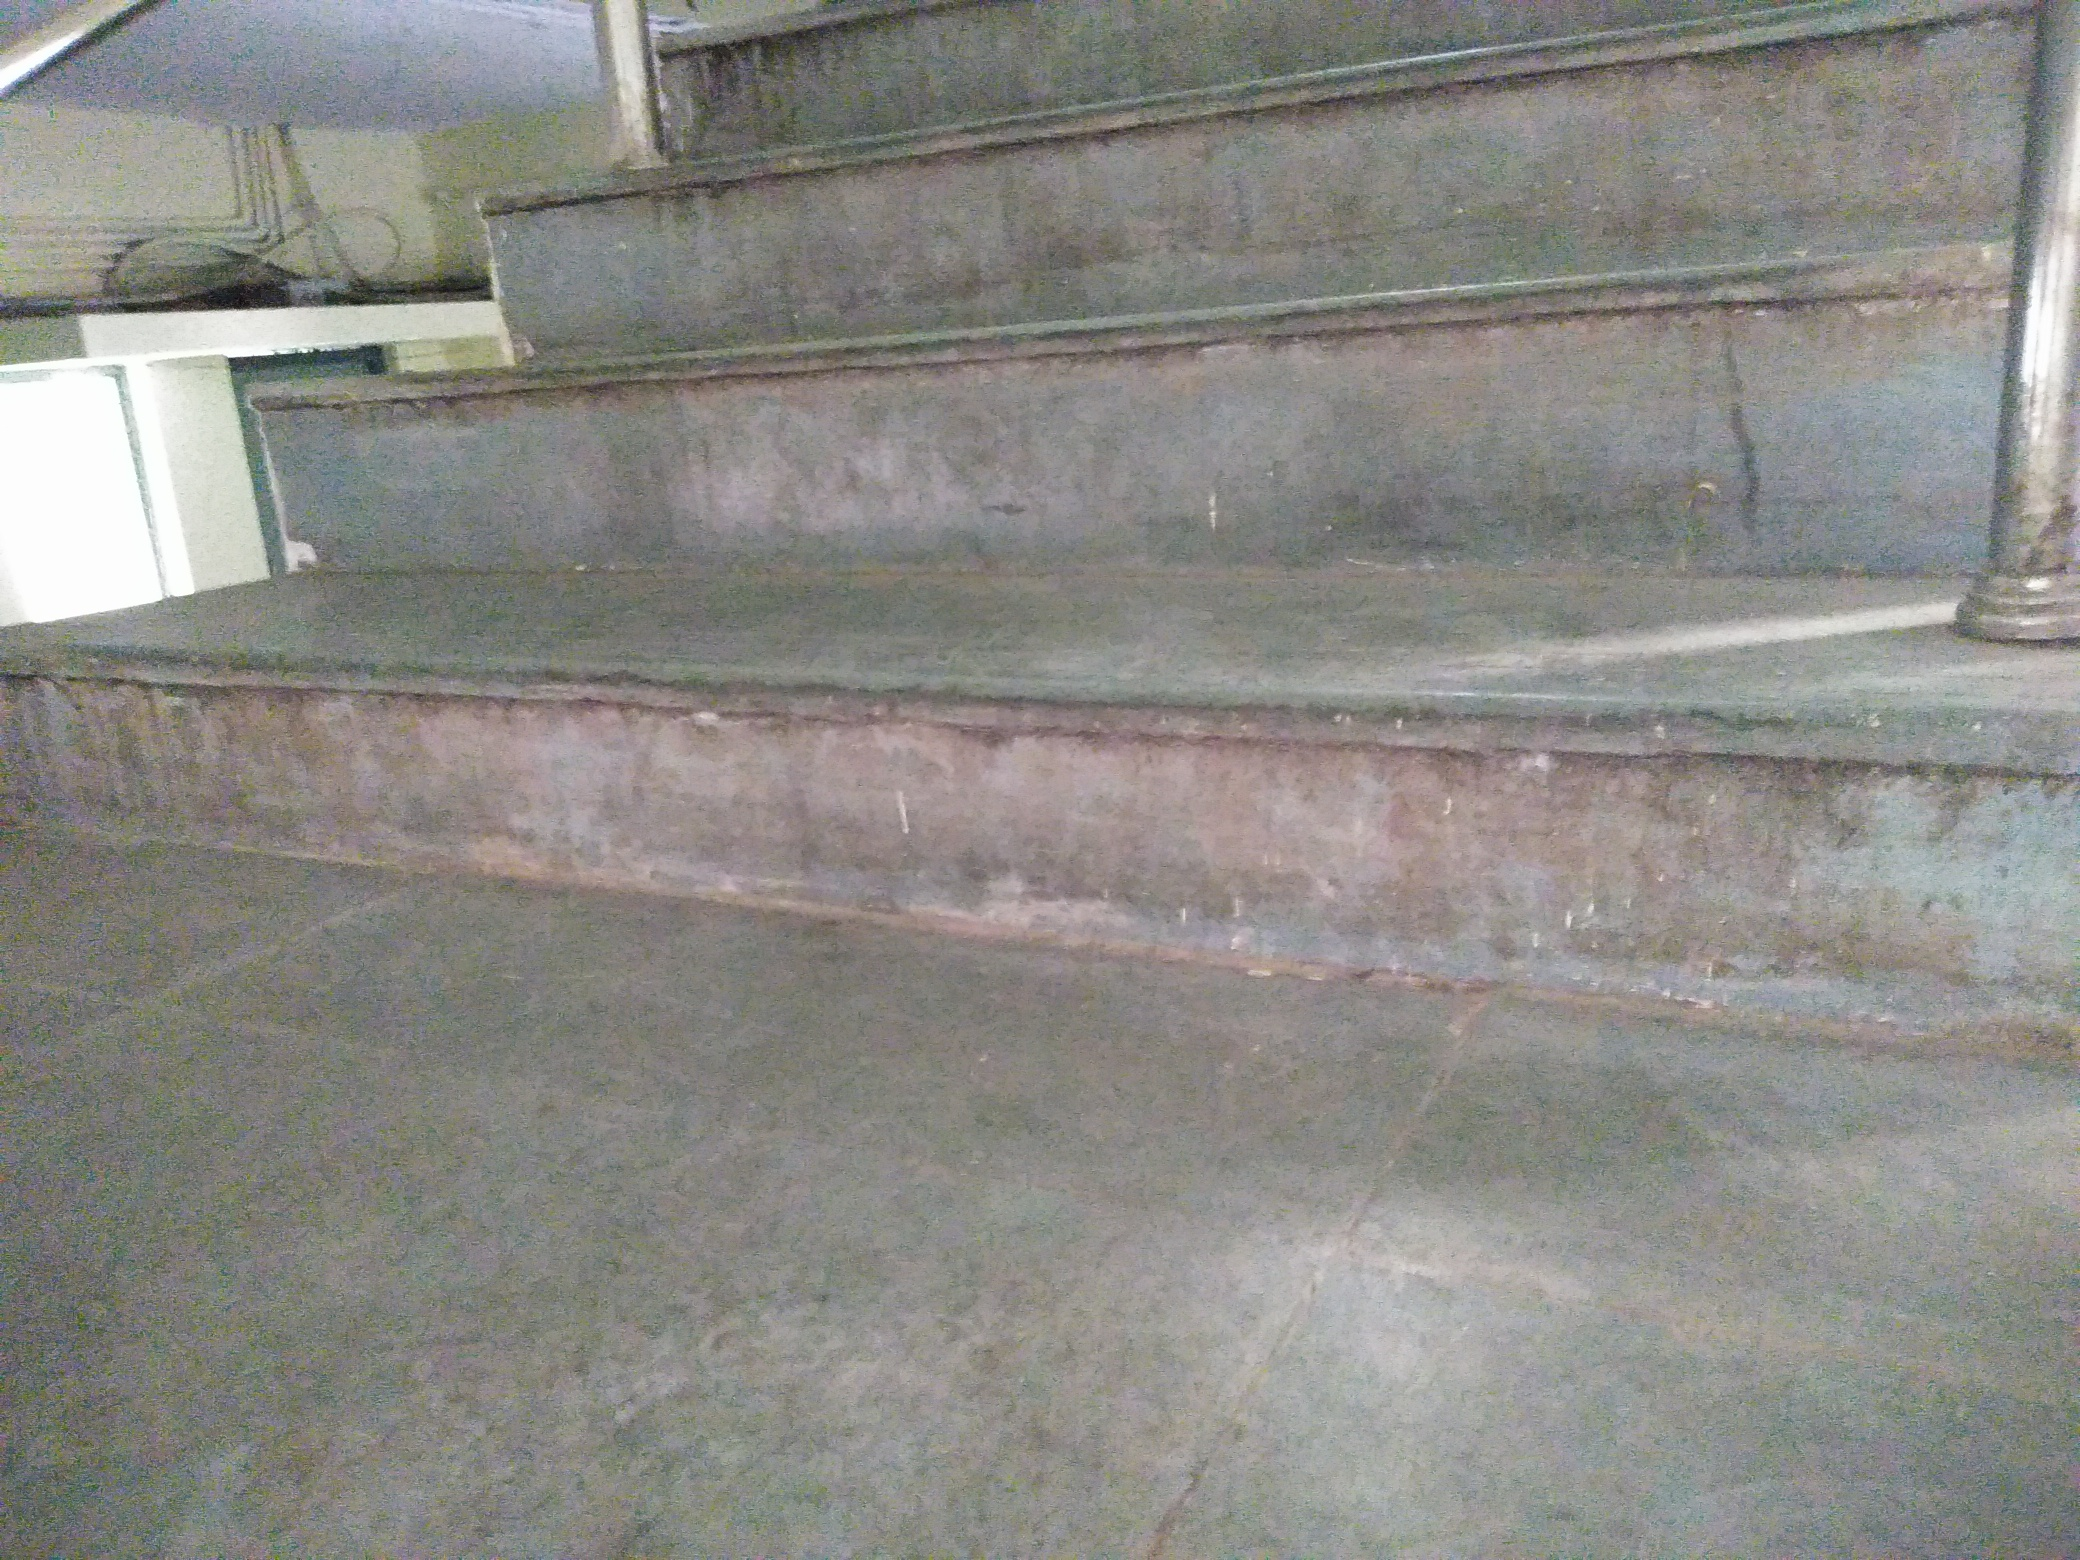stairs_up: (82, 34, 2005, 946)
